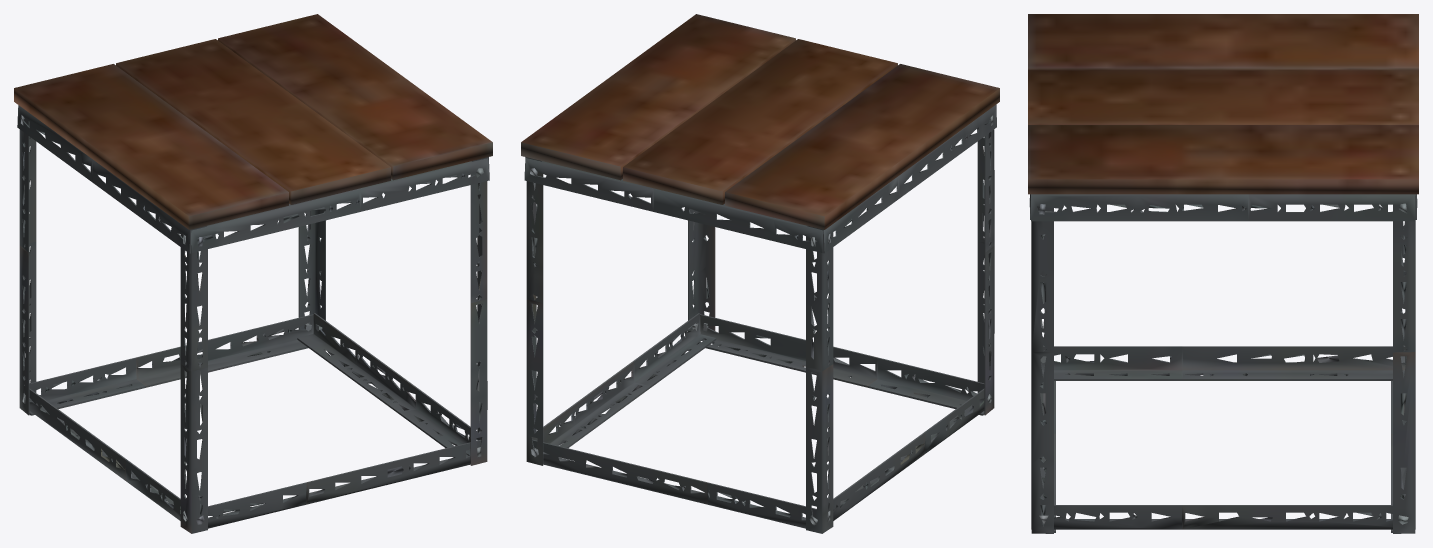
File: ph-industrial-coffee-table.glb
3 renders of one model, left to right at view 1: azimuth 30°, elevation 25°; view 2: azimuth 150°, elevation 25°; view 3: azimuth 270°, elevation 25°, orthographic. The views are drawn at different scales.
Parts seen in each view (by area): view 1: industrial_coffee_table; view 2: industrial_coffee_table; view 3: industrial_coffee_table.
Boxes of the visible parts, left/top/right/bottom form: industrial_coffee_table: left=14, top=14, right=492, bottom=533; industrial_coffee_table: left=521, top=14, right=999, bottom=533; industrial_coffee_table: left=1028, top=14, right=1418, bottom=533.
Bounding box in the file's own units: 0.9924 × 0.9985 × 0.9922.
Materials: 1 (1 with a texture image).
